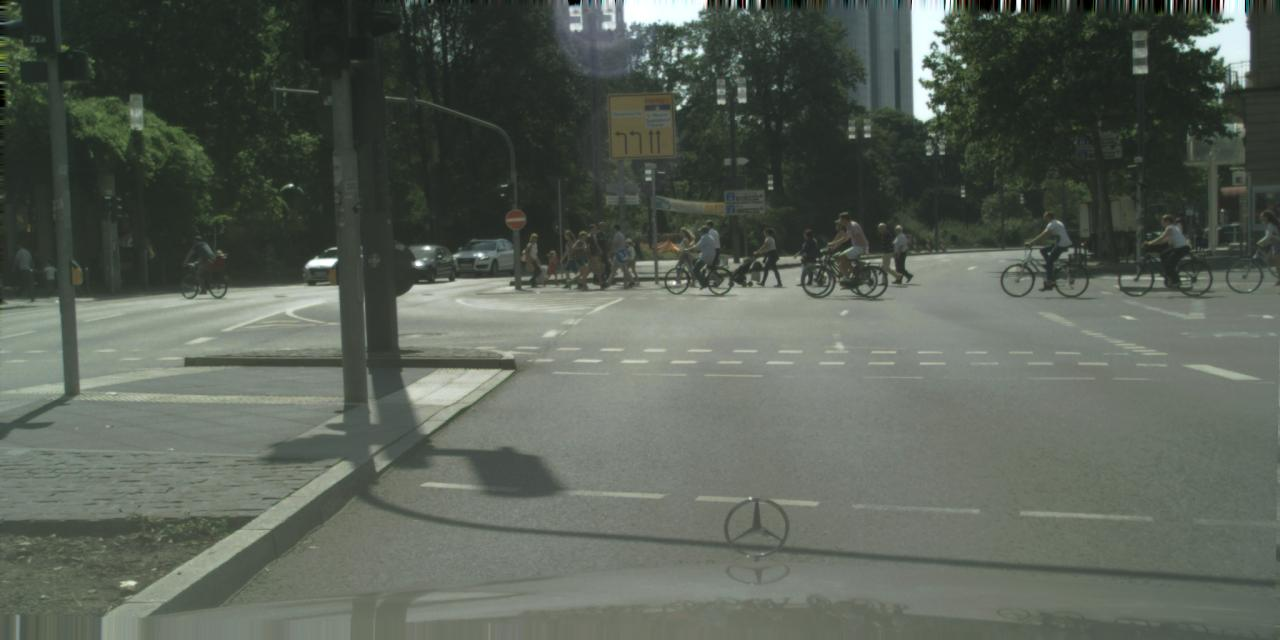ped: (1033, 210, 1065, 290), (831, 212, 861, 288), (1154, 214, 1184, 287), (695, 219, 723, 287), (1256, 208, 1278, 286), (580, 224, 606, 288), (690, 226, 716, 290), (605, 224, 631, 287), (873, 222, 898, 283), (592, 222, 616, 284), (829, 218, 853, 278), (672, 226, 696, 284), (756, 228, 780, 286), (889, 224, 912, 282), (568, 232, 591, 288), (794, 229, 817, 285), (560, 230, 582, 287), (522, 232, 544, 288), (8, 242, 30, 297), (191, 235, 212, 286), (620, 237, 639, 285), (42, 259, 56, 297), (545, 250, 559, 286)
